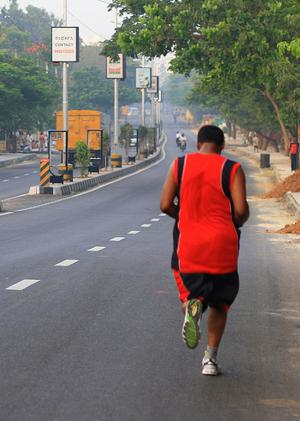person: (160, 125, 250, 380)
